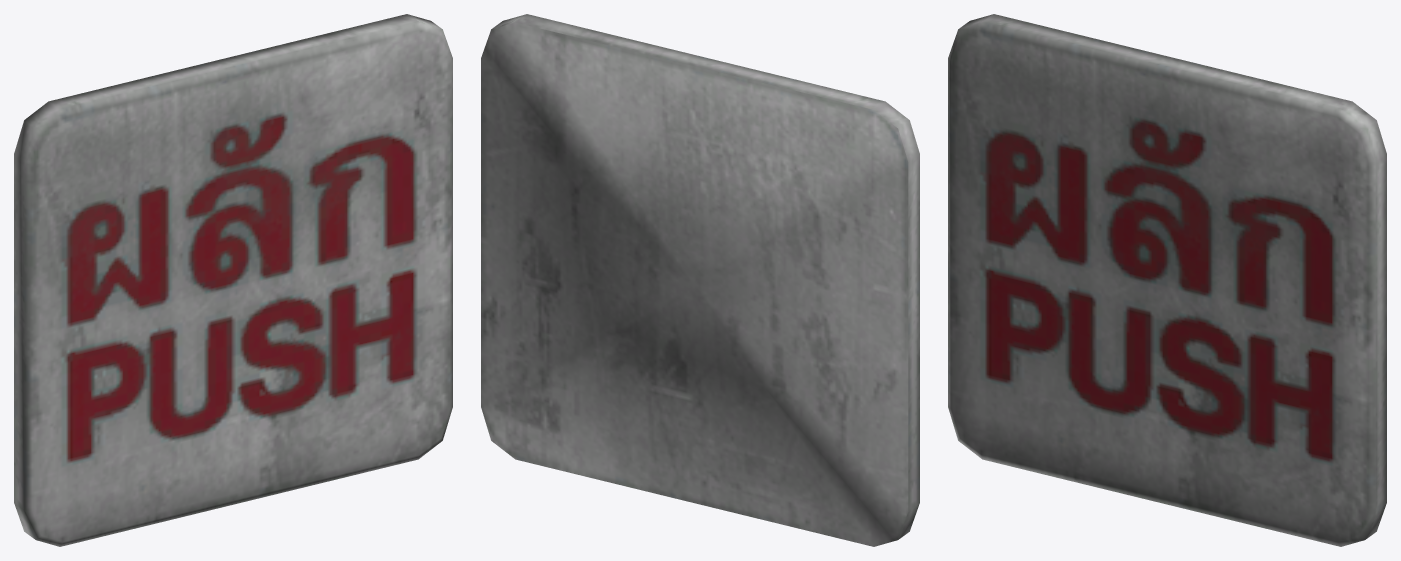
Rendered from signPush01.FBX.
3 views of the same model, side by side, from view 1: azimuth 30°, elevation 25°; view 2: azimuth 150°, elevation 25°; view 3: azimuth 330°, elevation 25° (orthographic).
Visible parts, largest first — view 1: SM_SignPush01; view 2: SM_SignPush01; view 3: SM_SignPush01.
Boxes of the visible parts, x1,y1,x2,y2 form: SM_SignPush01: (14,14,452,546); SM_SignPush01: (481,14,919,546); SM_SignPush01: (948,14,1386,546).
Bounding box in the file's own units: 8.26 × 8.08 × 0.45.
1 material, 1 textured.
